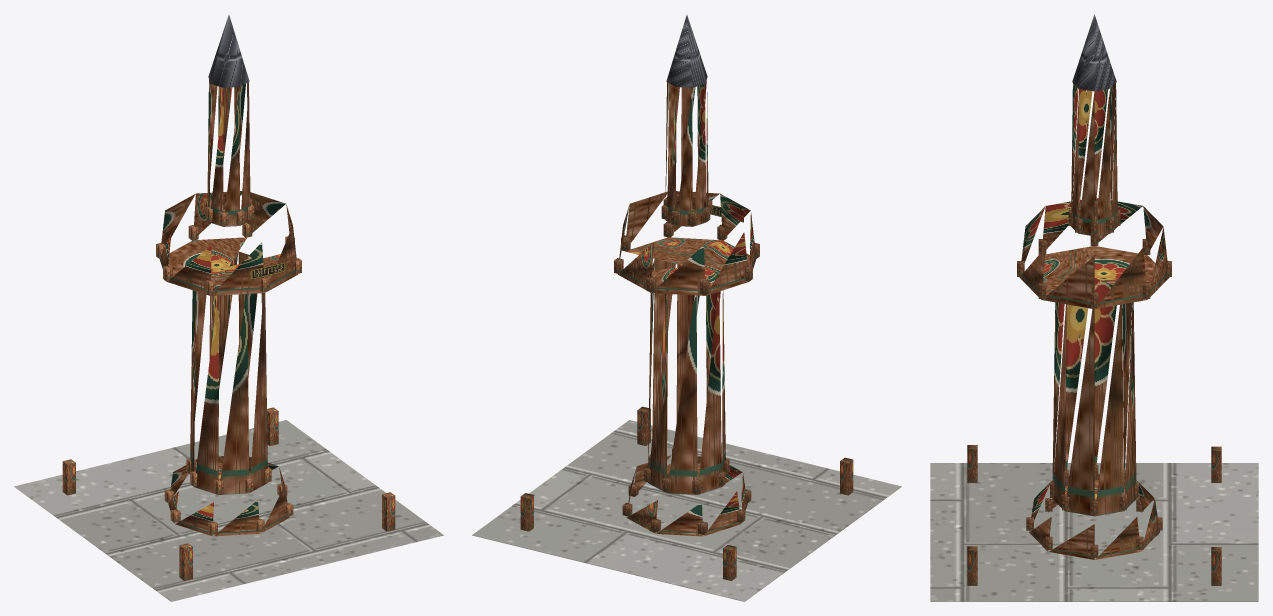
3 views of the same model, side by side, from view 1: azimuth 30°, elevation 25°; view 2: azimuth 150°, elevation 25°; view 3: azimuth 270°, elevation 25° (orthographic). The views are drawn at different scales.
Parts seen in each view (by area): view 1: 11140_02_04629_020_01_L2__base, 11140_02_04629_020_02_L2__body, 11140_02_04629_020_06_L2__green, 11140_02_04629_020_03_L2__roof; view 2: 11140_02_04629_020_01_L2__base, 11140_02_04629_020_02_L2__body, 11140_02_04629_020_06_L2__green, 11140_02_04629_020_03_L2__roof; view 3: 11140_02_04629_020_01_L2__base, 11140_02_04629_020_02_L2__body, 11140_02_04629_020_03_L2__roof, 11140_02_04629_020_06_L2__green.
Part boxes in pixels (x1,y1,x2,y2): 11140_02_04629_020_01_L2__base: (14, 420, 443, 601); 11140_02_04629_020_02_L2__body: (156, 79, 301, 536); 11140_02_04629_020_06_L2__green: (62, 407, 395, 580); 11140_02_04629_020_03_L2__roof: (208, 15, 249, 87); 11140_02_04629_020_01_L2__base: (472, 420, 901, 601); 11140_02_04629_020_02_L2__body: (614, 80, 759, 536); 11140_02_04629_020_06_L2__green: (520, 406, 853, 580); 11140_02_04629_020_03_L2__roof: (666, 15, 707, 87); 11140_02_04629_020_01_L2__base: (930, 463, 1258, 601); 11140_02_04629_020_02_L2__body: (1017, 83, 1171, 559); 11140_02_04629_020_03_L2__roof: (1072, 14, 1116, 91); 11140_02_04629_020_06_L2__green: (967, 445, 1221, 585).
Bounding box in the file's own units: 70 × 122 × 70.
Materials: 4 (4 with a texture image).
